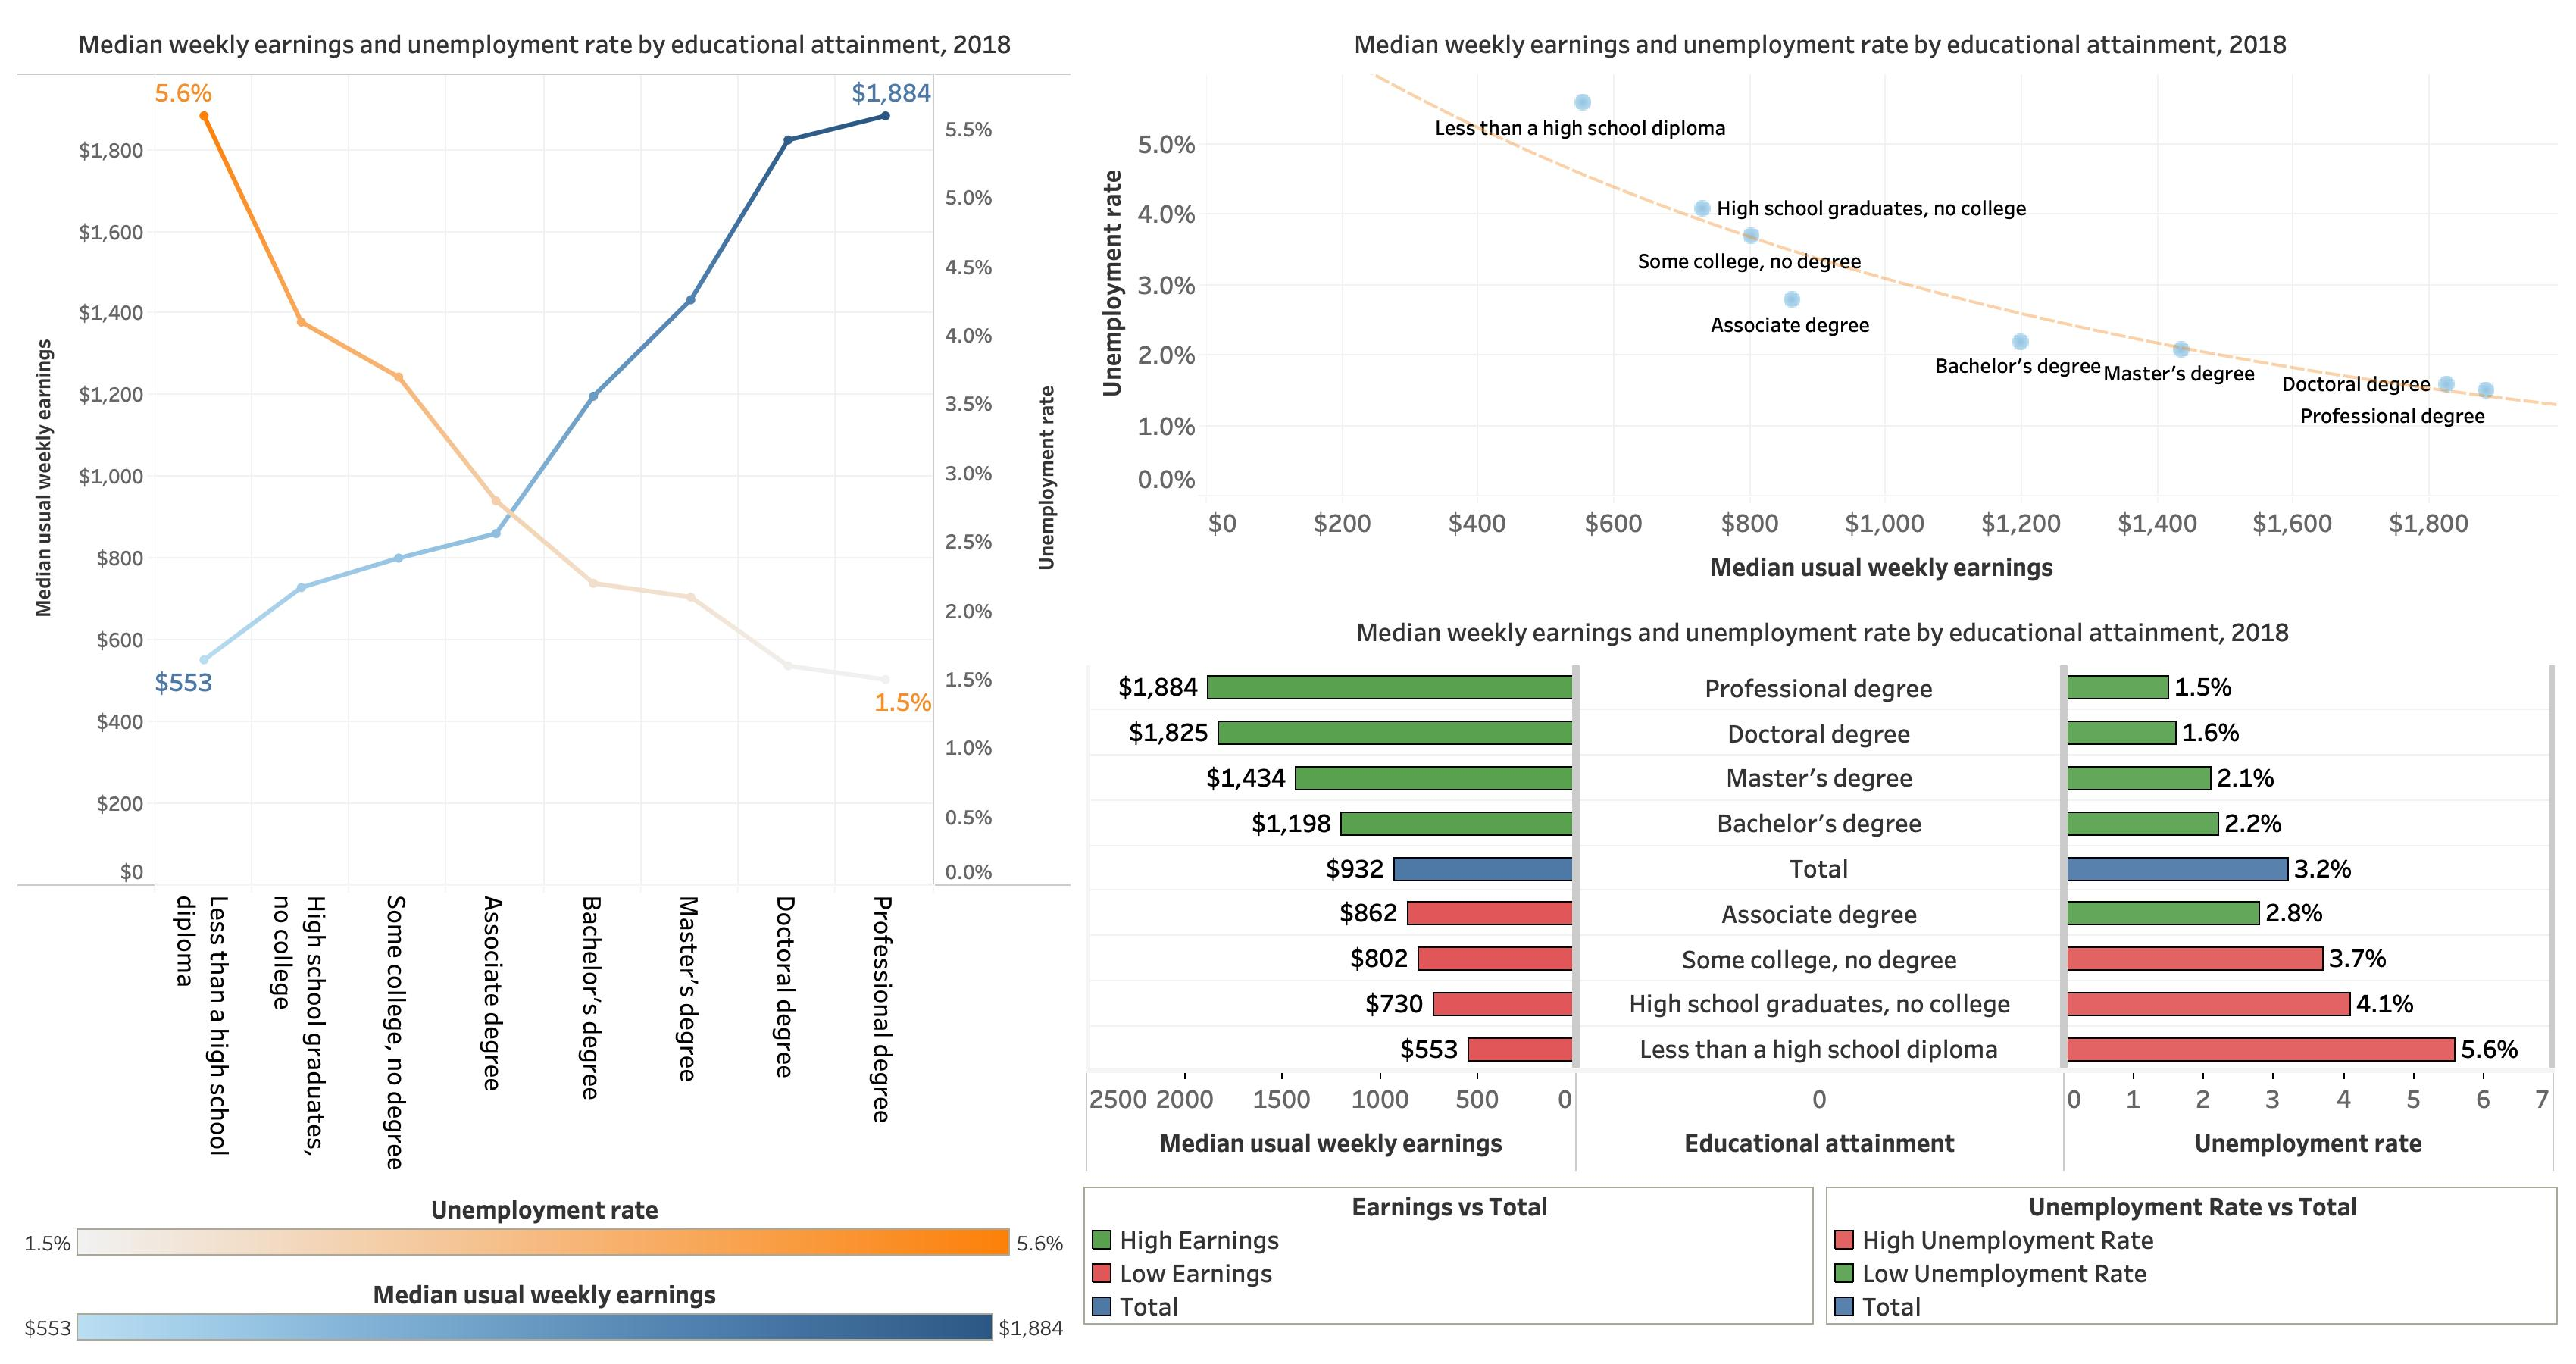

This screenshot's page, from the dashboard's own definition file:
{"tool":"tableau","page":{"name":"Dashboard 1","canvas":[1700,900],"ordinal":0},"visuals":[{"type":"worksheet","title":"Line Plots","mark":"Line","rows":["Median usual weekly earnings","Unemployment rate"],"cols":["Educational attainment"],"box":[8,8,703.1,770.8]},{"type":"worksheet","title":"Scatter Plots","mark":"Heatmap","rows":["Unemployment rate"],"cols":["Median usual weekly earnings"],"box":[711.1,8,980.9,388]},{"type":"worksheet","title":"Bar Charts","mark":"Automatic","rows":["Educational attainment"],"cols":["Median usual weekly earnings","Calculation_989032739106267137","Unemployment rate"],"box":[711.1,396,980.9,382.8]},{"type":"legend","title":"Line Plots","param":"[federated.0ztanca05n0wb01ahazw41kahwq2].[sum:Unemployment rate:qk]","box":[8,778.8,703.1,56.5]},{"type":"legend","title":"Bar Charts","param":"[federated.0ztanca05n0wb01ahazw41kahwq2].[none:Calculation_1428415177778978818:n","box":[711.1,778.8,490.4,113.2]},{"type":"legend","title":"Bar Charts","param":"[federated.0ztanca05n0wb01ahazw41kahwq2].[none:Calculation_1428415177784074246:n","box":[1201.5,778.8,490.5,113.2]},{"type":"legend","title":"Line Plots","param":"[federated.0ztanca05n0wb01ahazw41kahwq2].[sum:Median usual weekly earnings:qk]","box":[8,835.4,703.1,56.6]}]}

Visuals, with their boxes in screenshot pixels (x1, y1, x2, y2), scaled from the page's 1700x900 canvas onto the 2576x1364 screenshot:
"Line Plots" worksheet (Line marks): bbox=(12, 12, 1077, 1181)
"Scatter Plots" worksheet (Heatmap marks): bbox=(1077, 12, 2564, 600)
"Bar Charts" worksheet: bbox=(1077, 600, 2564, 1181)
"Line Plots" legend: bbox=(12, 1181, 1077, 1266)
"Bar Charts" legend: bbox=(1077, 1181, 1821, 1352)
"Bar Charts" legend: bbox=(1821, 1181, 2564, 1352)
"Line Plots" legend: bbox=(12, 1266, 1077, 1352)
